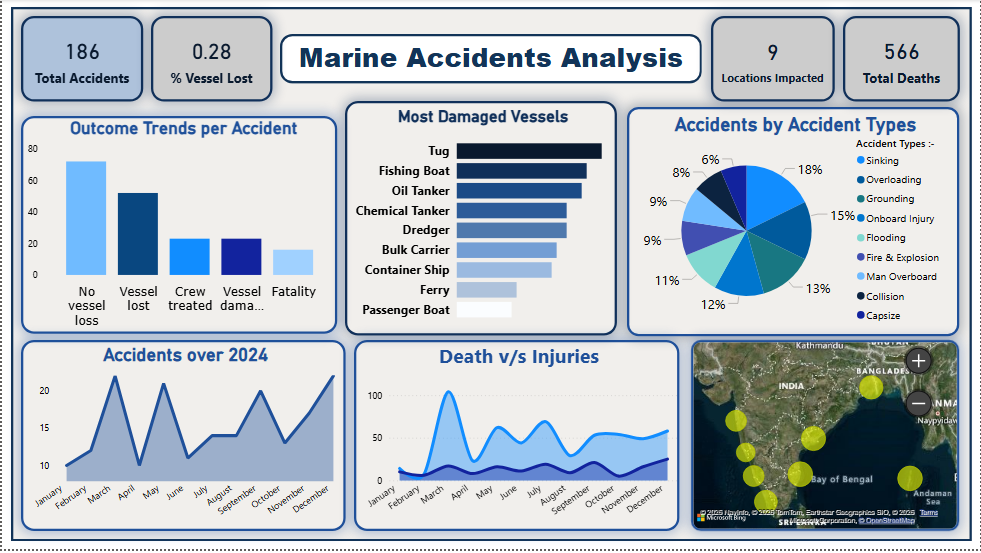

The dashboard page shown, as its layout file describes it:
{"tool":"powerbi","page":{"name":"Result","canvas":[1280,720],"ordinal":1},"visuals":[{"type":"shape","box":[11.8,10.3,1257.8,699.4],"z":0},{"type":"shape","box":[364.4,45.6,552.5,64.7],"z":1000},{"type":"donutChart","title":"Accidents by Accident Types","fields":{"Category":["Marine Accidents Data.Accident Type"],"Y":["Calculated Measures.Total Accidents"]},"box":[818.4,141.1,434.9,299.8],"z":2000},{"type":"map","fields":{"Category":["Marine Accidents Data.Location"],"Size":["Calculated Measures.Total Accidents"]},"box":[902.2,446.7,351.2,249.8],"z":3000},{"type":"areaChart","title":"Accidents over 2024","fields":{"Y":["Calculated Measures.Total Accidents"],"Category":["Marine Accidents Data.Date.Variation.Date Hierarchy.Month"]},"box":[25,446.7,424.7,249.8],"z":4000},{"type":"lineChart","title":"Death v/s Injuries","fields":{"Y":["Sum(Marine Accidents Data.Total Deaths)","Sum(Marine Accidents Data.Total Injuries)"],"Category":["Marine Accidents Data.Date.Variation.Date Hierarchy.Month","Marine Accidents Data.Date.Variation.Date Hierarchy.Day"]},"box":[461.4,446.7,426.1,249.8],"z":5000},{"type":"clusteredColumnChart","title":"Outcome Trends per Accident","fields":{"Category":["Marine Accidents Data.Outcome"],"Y":["Calculated Measures.Total Accidents"]},"box":[25,152.8,414.4,285.1],"z":6000},{"type":"barChart","title":"Most Damaged Vessels","fields":{"Category":["Marine Accidents Data.Vessel Type"],"Y":["Calculated Measures.Total Accidents"]},"box":[449.6,133.7,355.6,307.1],"z":7000},{"type":"card","fields":{"Values":["Calculated Measures.Total Accidents"]},"box":[25,22,160.2,111.7],"z":8000},{"type":"card","fields":{"Values":["Calculated Measures.% Vessel Lost"]},"box":[195.4,22,158.7,111.7],"z":9000},{"type":"card","fields":{"Values":["Calculated Measures.Locations Impacted"]},"box":[928.7,22,161.6,111.7],"z":10000},{"type":"card","fields":{"Values":["Calculated Measures.Total Deaths"]},"box":[1100.6,22,152.8,111.7],"z":11000}]}

Visuals, with their boxes in screenshot pixels (x1, y1, x2, y2), scaled from the page's 1280x720 canvas onto the 981x553 screenshot:
shape: (9,8,973,545)
shape: (279,35,703,85)
"Accidents by Accident Types" donutChart: (627,108,961,339)
map - Marine Accidents Data.Location x Calculated Measures.Total Accidents: (691,343,961,535)
"Accidents over 2024" areaChart: (19,343,345,535)
"Death v/s Injuries" lineChart: (354,343,680,535)
"Outcome Trends per Accident" clusteredColumnChart: (19,117,337,336)
"Most Damaged Vessels" barChart: (345,103,617,339)
card - Calculated Measures.Total Accidents: (19,17,142,103)
card - Calculated Measures.% Vessel Lost: (150,17,271,103)
card - Calculated Measures.Locations Impacted: (712,17,836,103)
card - Calculated Measures.Total Deaths: (844,17,961,103)
